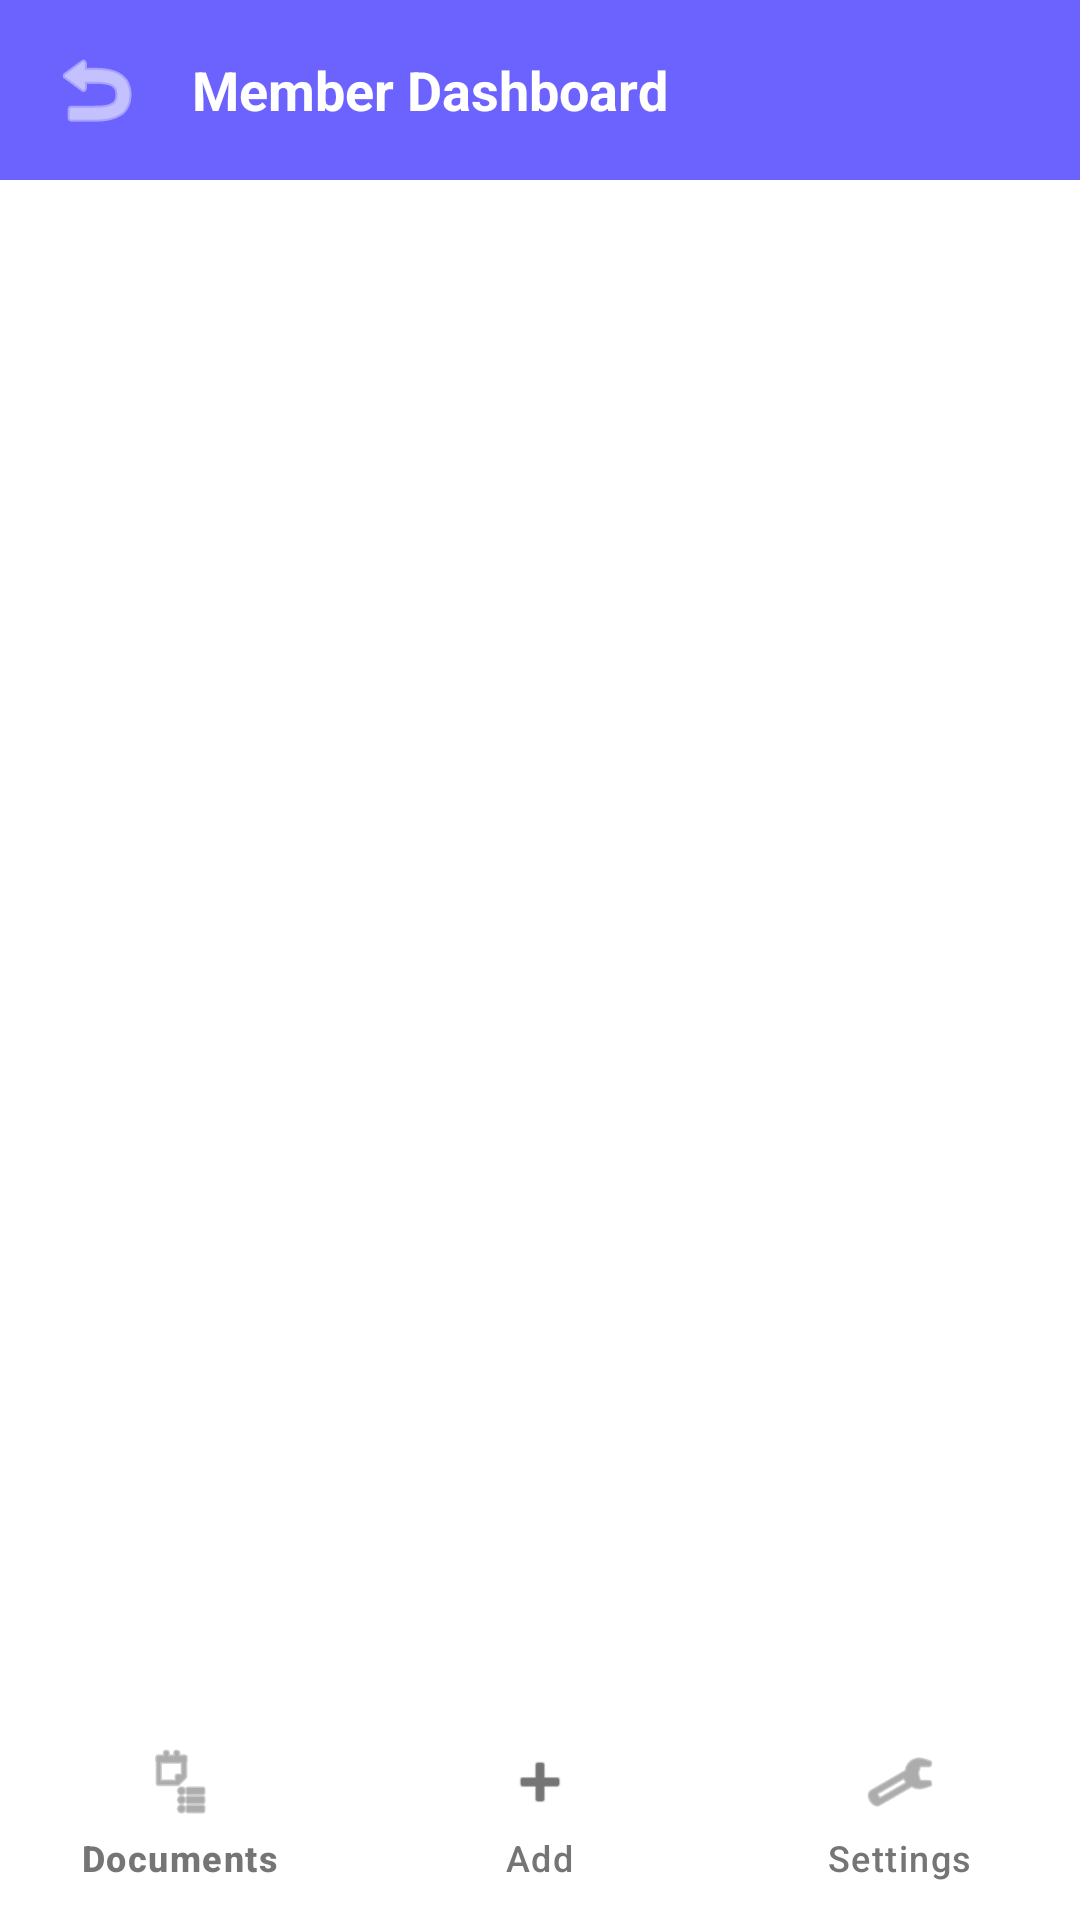

Locate icon controls on the screen. Image size 1080×1920, boxes as (x1, y1, x2, y2).
Back: (63, 60, 132, 122)
